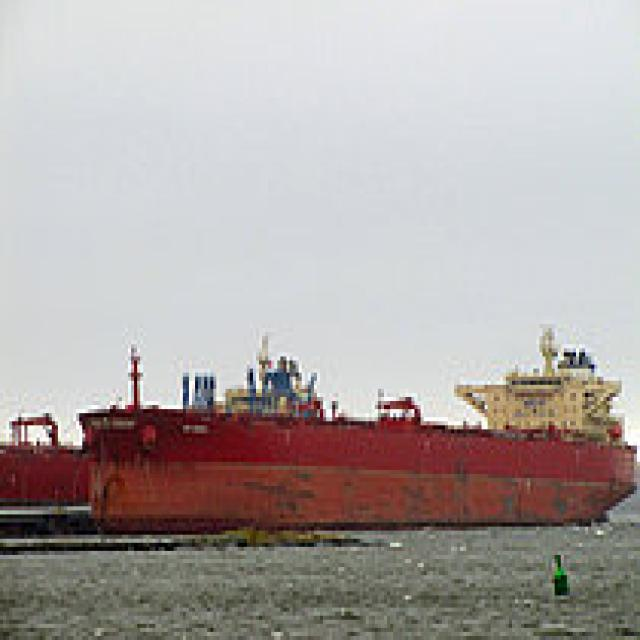Tanker: (73, 316, 634, 535)
